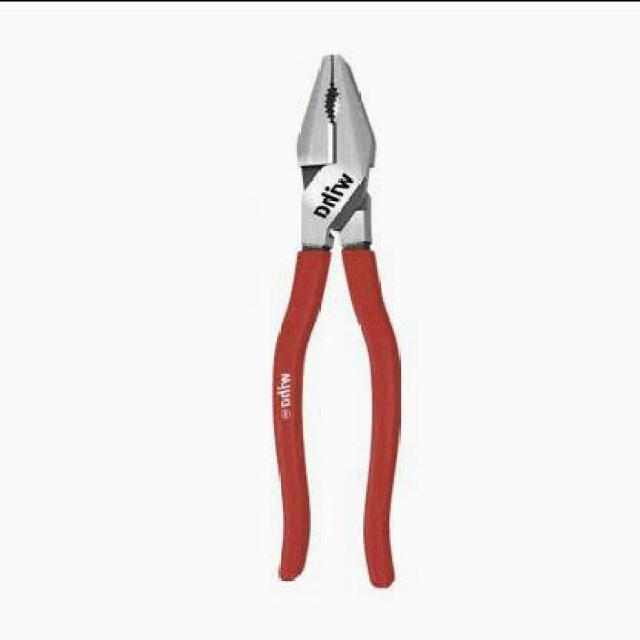pliers: (264, 50, 408, 592)
